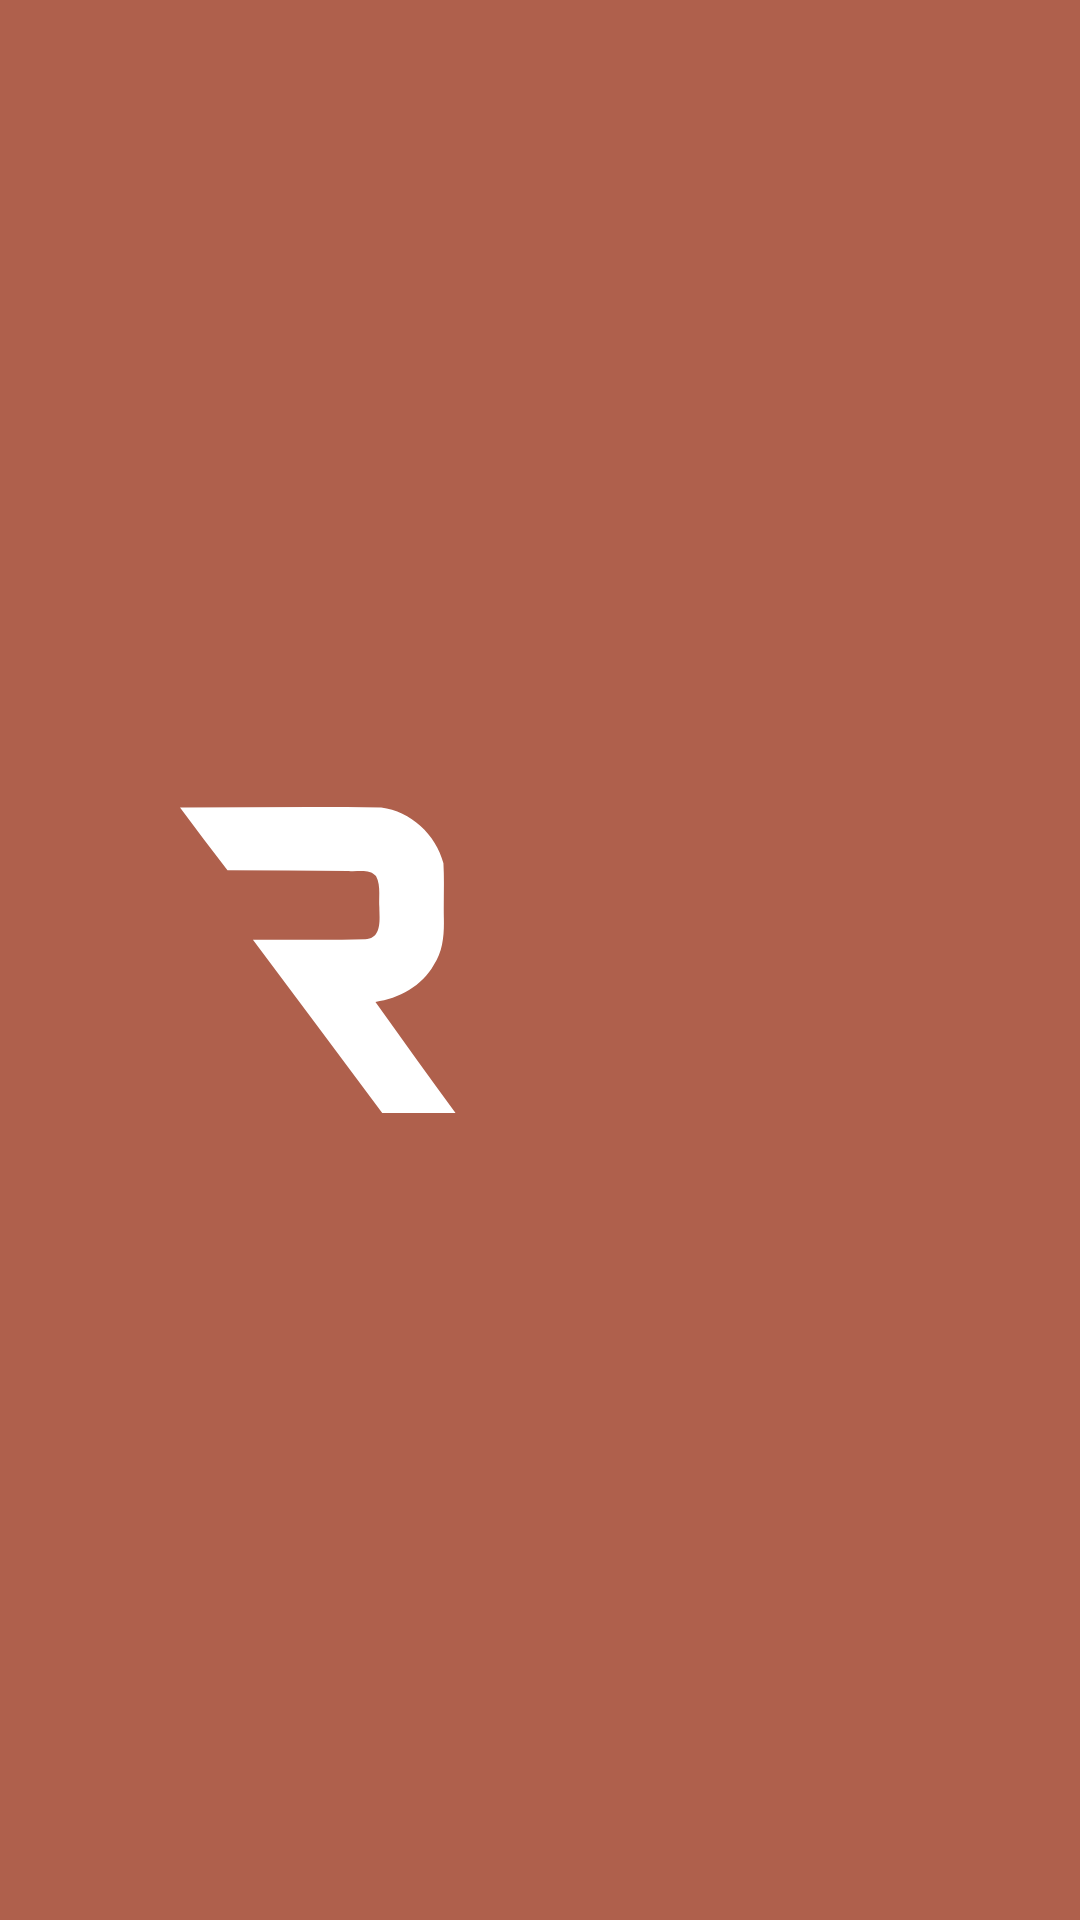

Where icons sit on this 1080 x 1920 app screen, as detection(x1, y1, x2, y2):
ralk letter: detection(180, 807, 456, 1113)
